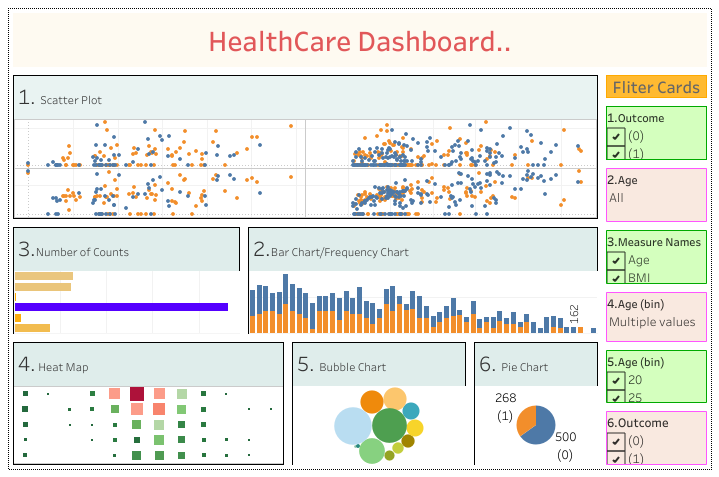

This screenshot's page, from the dashboard's own definition file:
{"tool":"tableau","page":{"name":"Dashboard 1","canvas":[1000,1000],"units":"permille","ordinal":0},"visuals":[{"type":"text","box":[12.5,15.2,975,131.5]},{"type":"worksheet","title":"Scatter Plot","mark":"Automatic","rows":["Insulin","SkinThickness"],"cols":["Glucose","BMI"],"box":[12.5,146.7,823.6,320]},{"type":"text","box":[836.1,146.7,151.4,50.6]},{"type":"filter","title":"Scatter Plot","param":"[federated.1s5onuo1g3mk4a1ecrecx1arnwel].[none:Outcome:nk]","box":[836.1,197.3,151.4,148]},{"type":"filter","title":"Bar Chart or Frequency Chart","param":"[federated.1s5onuo1g3mk4a1ecrecx1arnwel].[none:Age:ok]","box":[836.1,345.3,151.4,104.5]},{"type":"filter","title":"Number of Counts","param":"[federated.1s5onuo1g3mk4a1ecrecx1arnwel].[:Measure Names]","box":[836.1,449.8,151.4,148]},{"type":"worksheet","title":"Number of Counts","mark":"Automatic","box":[12.5,466.7,326.3,242.5]},{"type":"worksheet","title":"Bar Chart or Frequency Chart","mark":"Bar","rows":["Blood Pressure (bin)"],"cols":["Age"],"box":[338.8,466.7,497.4,242.5]},{"type":"filter","title":"Heat Map","param":"[federated.1s5onuo1g3mk4a1ecrecx1arnwel].[none:Age (bin):ok]","box":[836.1,597.8,151.4,91.1]},{"type":"filter","title":"Bubble Chart","param":"[federated.1s5onuo1g3mk4a1ecrecx1arnwel].[none:Age (bin):ok]","box":[836.1,688.9,151.4,148]},{"type":"worksheet","title":"Heat Map","mark":"Automatic","rows":["Age (bin)"],"cols":["Blood Pressure (bin)"],"box":[12.5,709.3,387.4,275.6]},{"type":"worksheet","title":"Bubble Chart","mark":"Circle","box":[399.9,709.3,252.6,275.6]},{"type":"worksheet","title":"Pie Chart","mark":"Pie","box":[652.5,709.3,183.6,275.6]},{"type":"filter","title":"Pie Chart","param":"[federated.1s5onuo1g3mk4a1ecrecx1arnwel].[none:Outcome:nk]","box":[836.1,836.8,151.4,148]}]}

Visuals, with their boxes on the dashboard's canvas, which has no fixed pixel size, in thousandths of its width and height (x1, y1, x2, y2). These are canvas units, not pixel positions in the 719x477 screenshot, which may show the page scaled, cropped or inside an application window:
text: x1=12 y1=15 x2=988 y2=147
"Scatter Plot" worksheet: x1=12 y1=147 x2=836 y2=467
text: x1=836 y1=147 x2=988 y2=197
"Scatter Plot" filter: x1=836 y1=197 x2=988 y2=345
"Bar Chart or Frequency Chart" filter: x1=836 y1=345 x2=988 y2=450
"Number of Counts" filter: x1=836 y1=450 x2=988 y2=598
"Number of Counts" worksheet: x1=12 y1=467 x2=339 y2=709
"Bar Chart or Frequency Chart" worksheet (Bar marks): x1=339 y1=467 x2=836 y2=709
"Heat Map" filter: x1=836 y1=598 x2=988 y2=689
"Bubble Chart" filter: x1=836 y1=689 x2=988 y2=837
"Heat Map" worksheet: x1=12 y1=709 x2=400 y2=985
"Bubble Chart" worksheet (Circle marks): x1=400 y1=709 x2=652 y2=985
"Pie Chart" worksheet (Pie marks): x1=652 y1=709 x2=836 y2=985
"Pie Chart" filter: x1=836 y1=837 x2=988 y2=985
